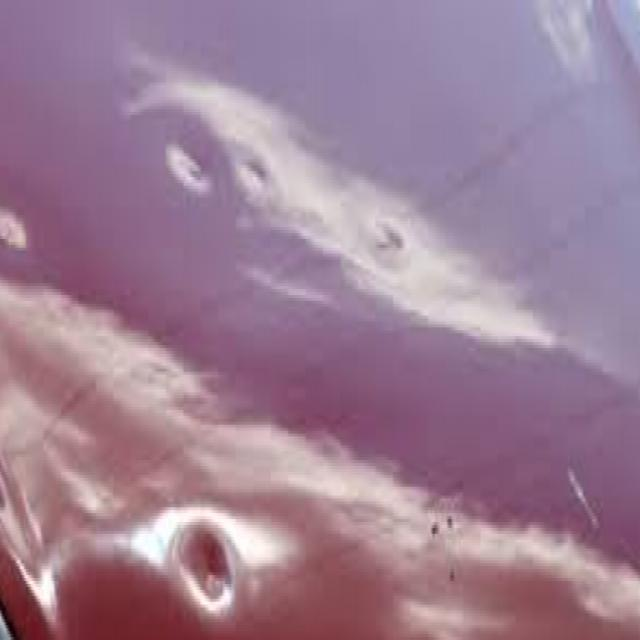dents: (161, 121, 230, 239), (173, 525, 246, 625), (362, 221, 414, 278), (240, 158, 275, 215)
